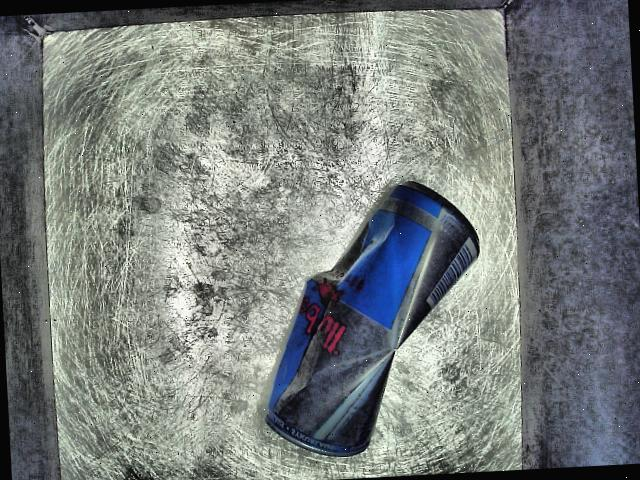Bottles: (222, 176, 504, 466)
